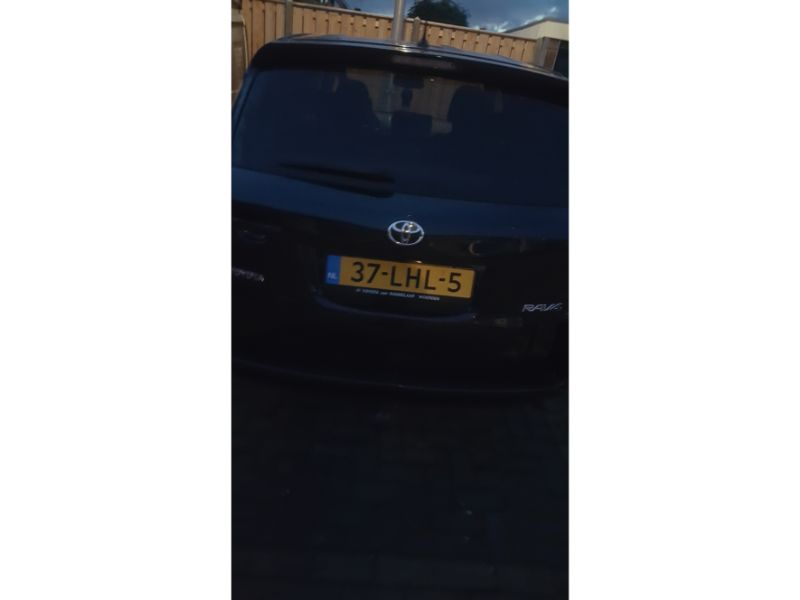kenteken: (315, 251, 476, 299)
